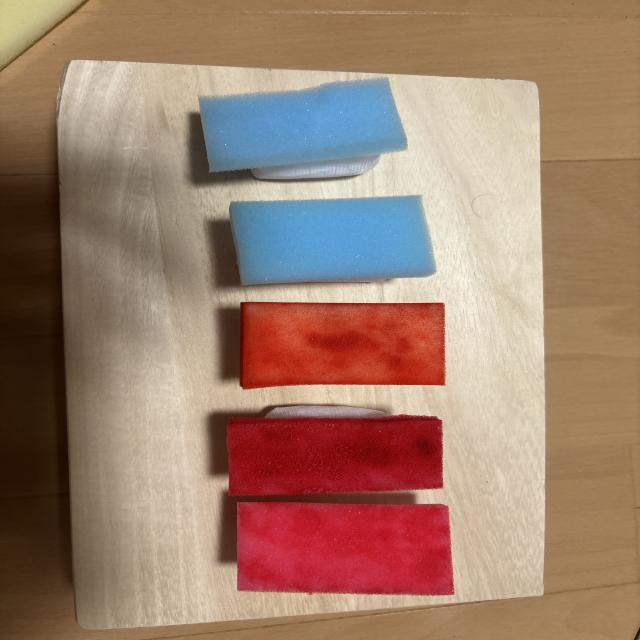NG: (199, 78, 407, 179)
ika: (230, 196, 436, 285)
maguro: (237, 502, 454, 595), (227, 405, 443, 495)
salmon: (240, 302, 445, 389)
